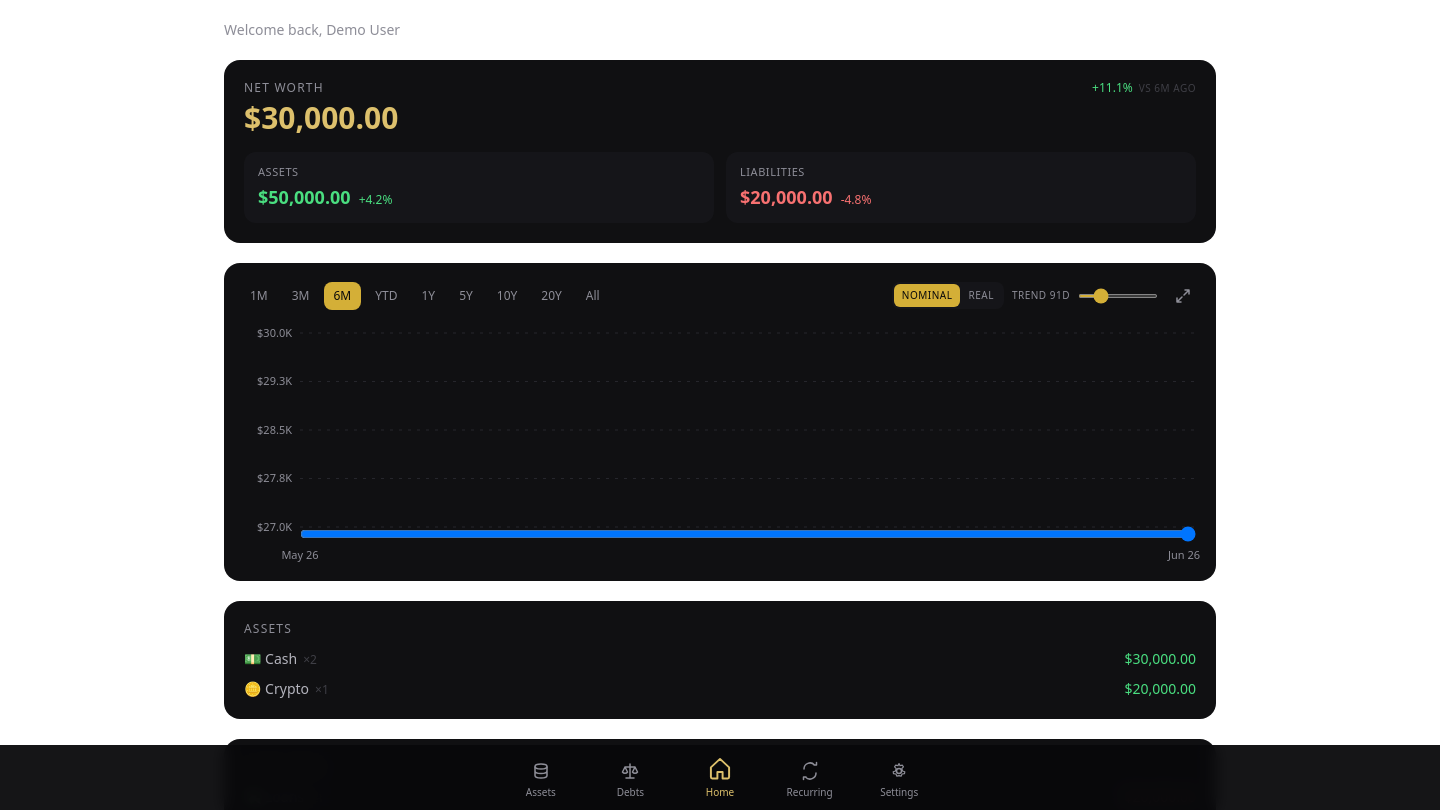
Scenario: dashboard › toggles real (inflation-adjusted) terms and requests deflated data
Expected: the text "vs 6M ago" is shown, [1139, 81, 1196, 96]
Expected: the text "today’s money" is not shown
Click the button "Real".
click(981, 296)  # box [960, 284, 1002, 307]
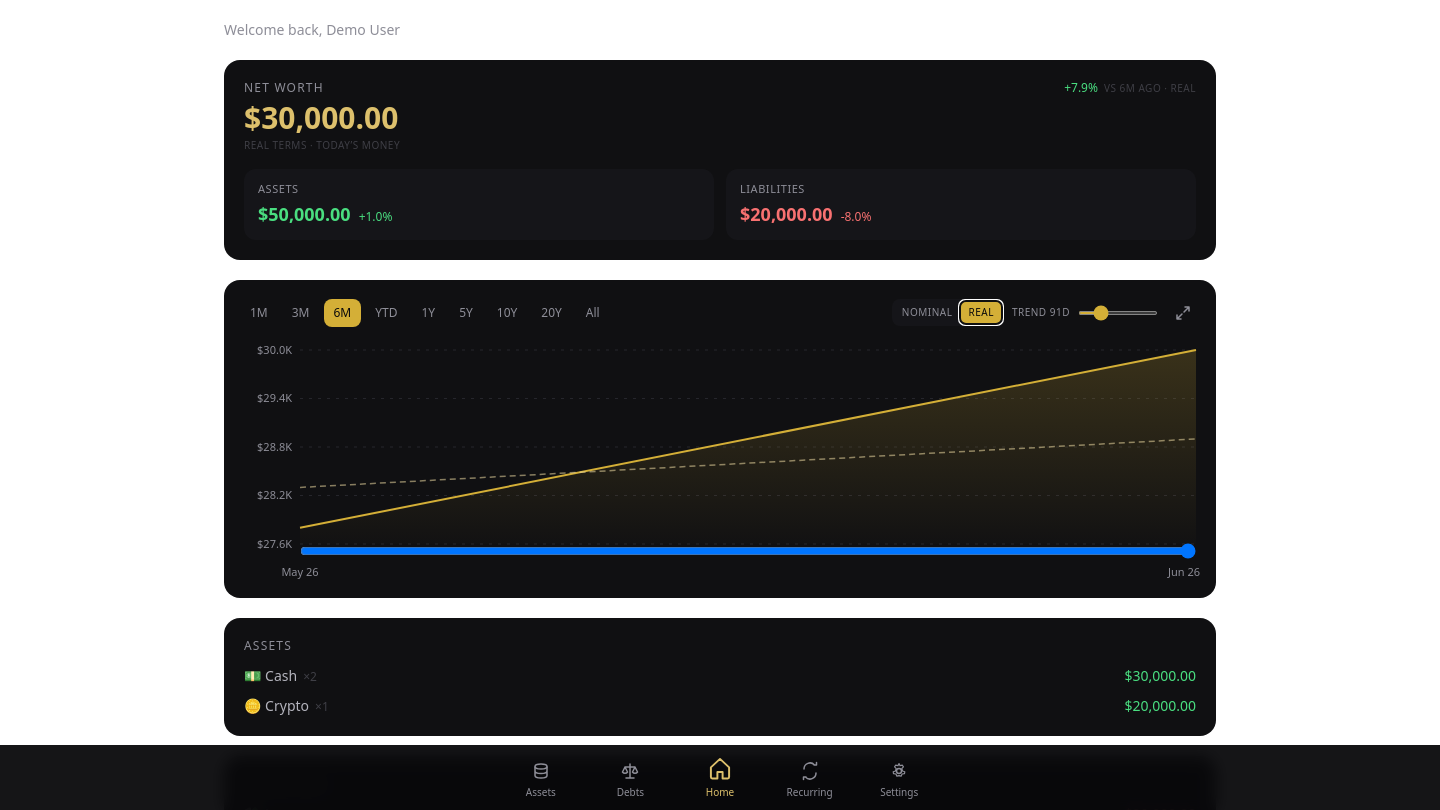
Expected: the text "+7.9%" is shown, [1064, 80, 1098, 96]
Expected: the text "+11.1%" is gone
Expected: the text "Real terms · today’s money" is shown, [244, 138, 400, 152]
